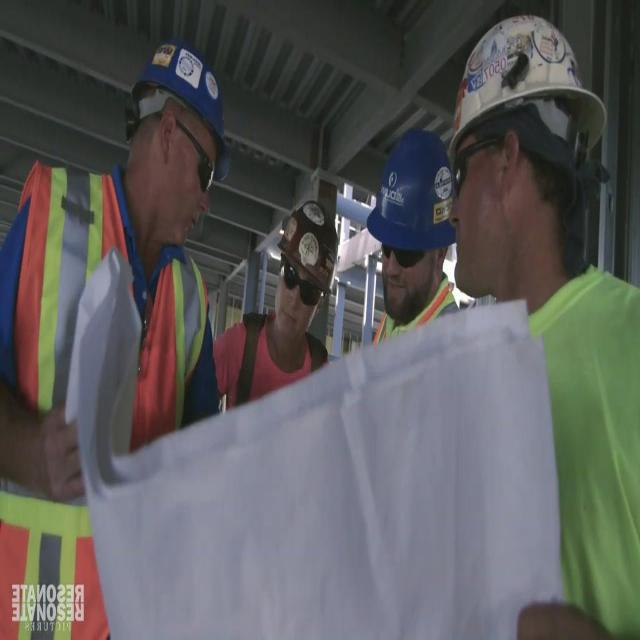Reflective-Jacket: (0, 158, 212, 540), (498, 267, 637, 640)
Safety-Helmet: (444, 8, 606, 164), (118, 27, 238, 177), (361, 125, 463, 267), (270, 190, 346, 294)
